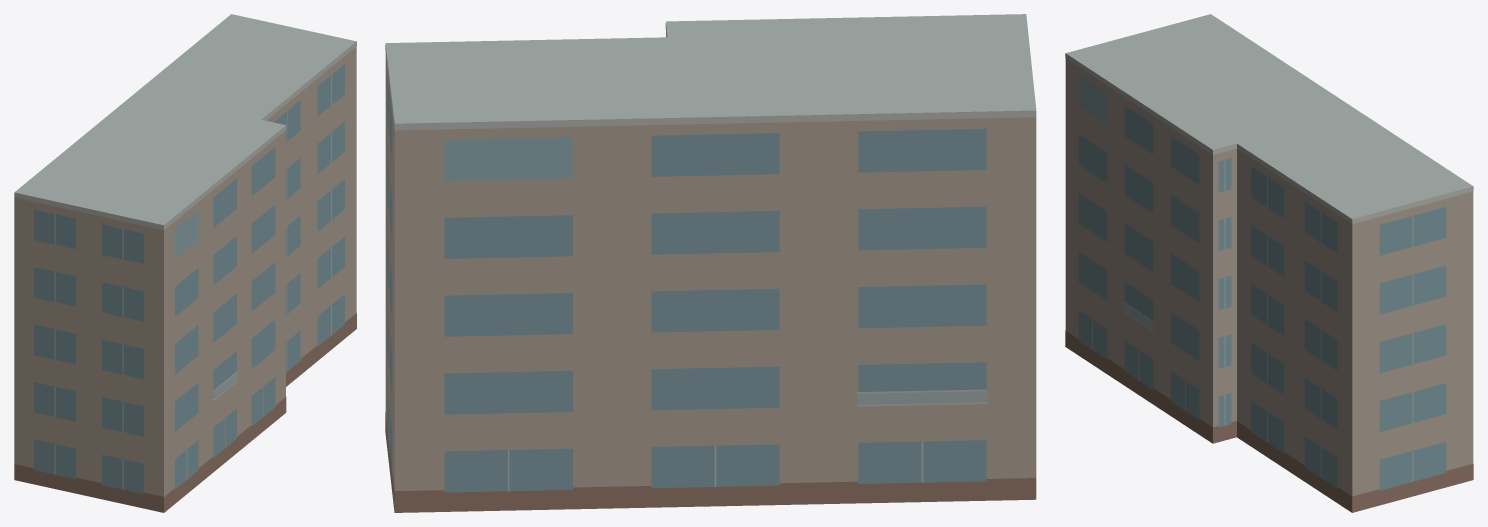
File: survey-upis-32720494.glb
3 renders of one model, left to right at view 1: azimuth 30°, elevation 25°; view 2: azimuth 150°, elevation 25°; view 3: azimuth 270°, elevation 25°, orthographic. The views are drawn at different scales.
Visible parts, largest first — view 1: survey-upis-32720494.tmp; view 2: survey-upis-32720494.tmp; view 3: survey-upis-32720494.tmp.
Part boxes in pixels (box(x1,y1,x2,y2)): survey-upis-32720494.tmp: box(14, 14, 356, 512); survey-upis-32720494.tmp: box(385, 14, 1036, 512); survey-upis-32720494.tmp: box(1065, 14, 1473, 512).
Size of the model in its own units: 21.29 by 14.2 by 17.88.
